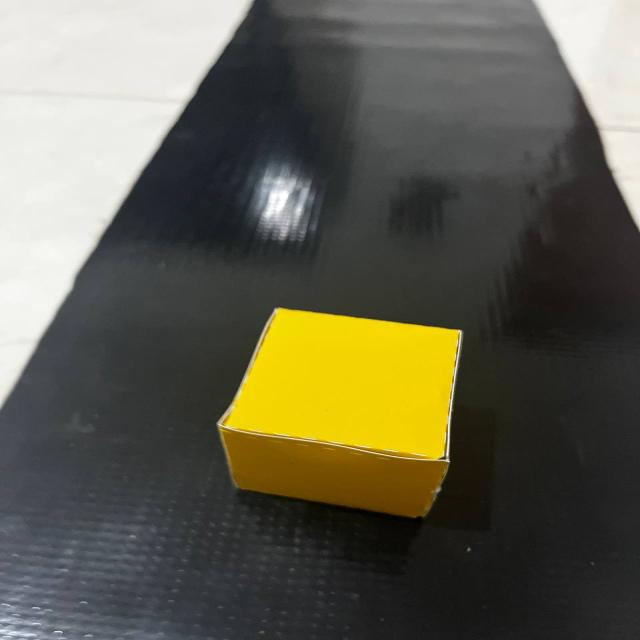Amarillo: (197, 286, 488, 538)
